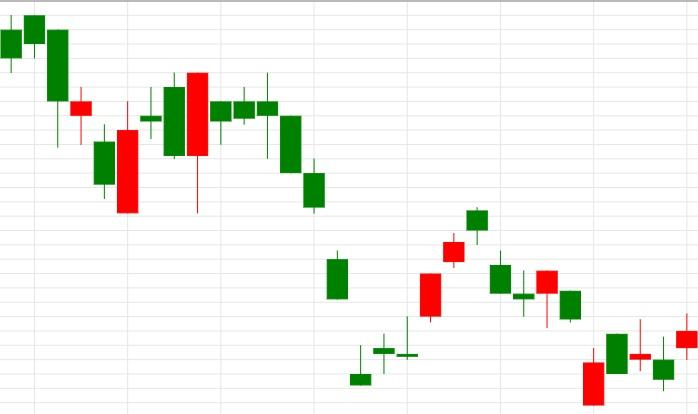bullish_engulfing_rise: (24, 15, 139, 214)
three_black_crows_fall: (349, 207, 535, 386), (94, 71, 326, 214)
